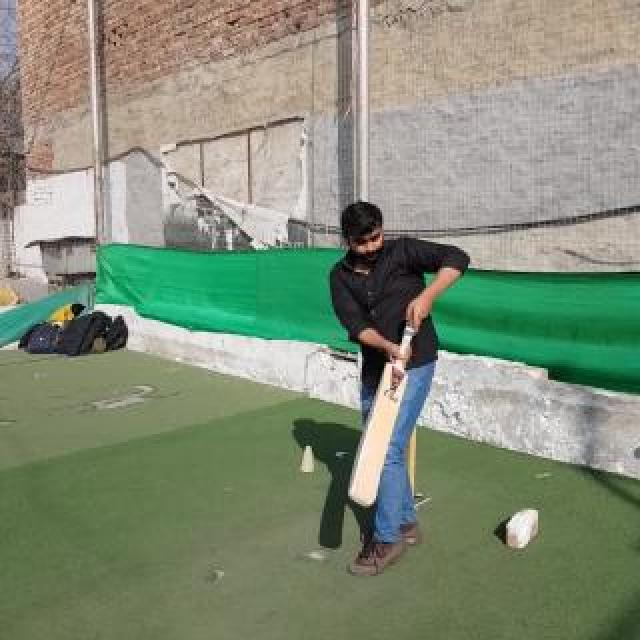bat: (348, 317, 416, 507)
